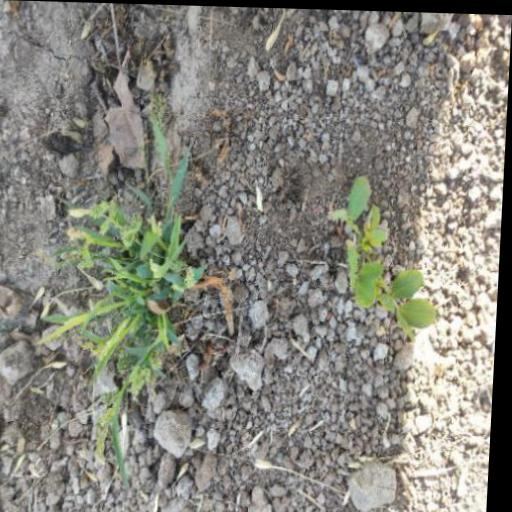weed: (31, 160, 226, 422), (310, 165, 460, 376)
